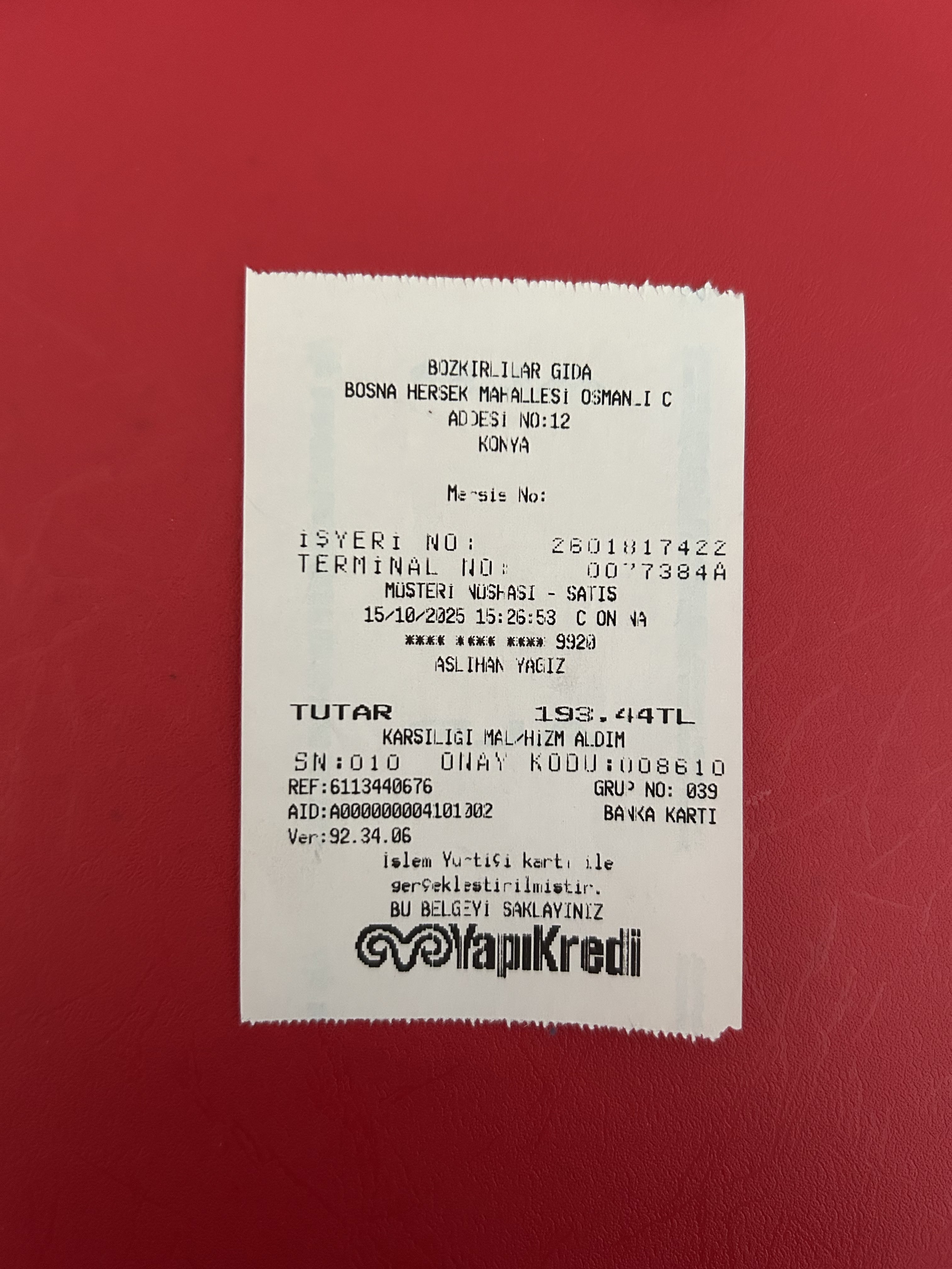date: (356, 599, 468, 629)
price: (524, 695, 707, 728)
workplace: (333, 354, 697, 459)
